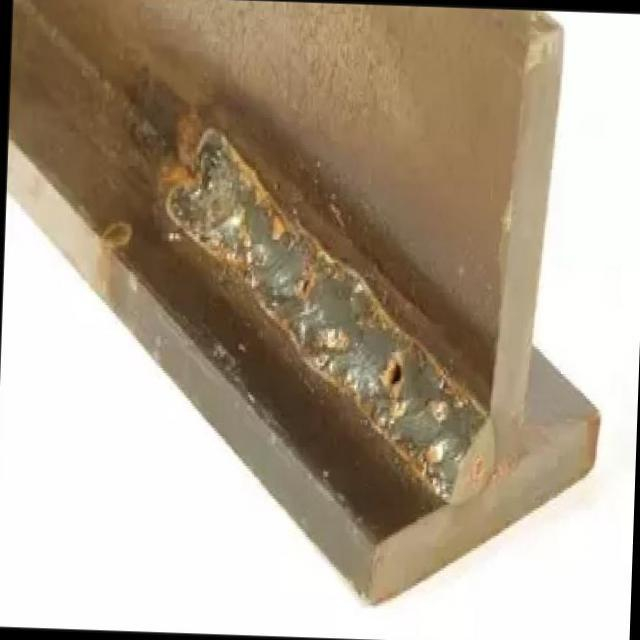defect: (385, 354, 404, 388), (297, 267, 315, 296)
